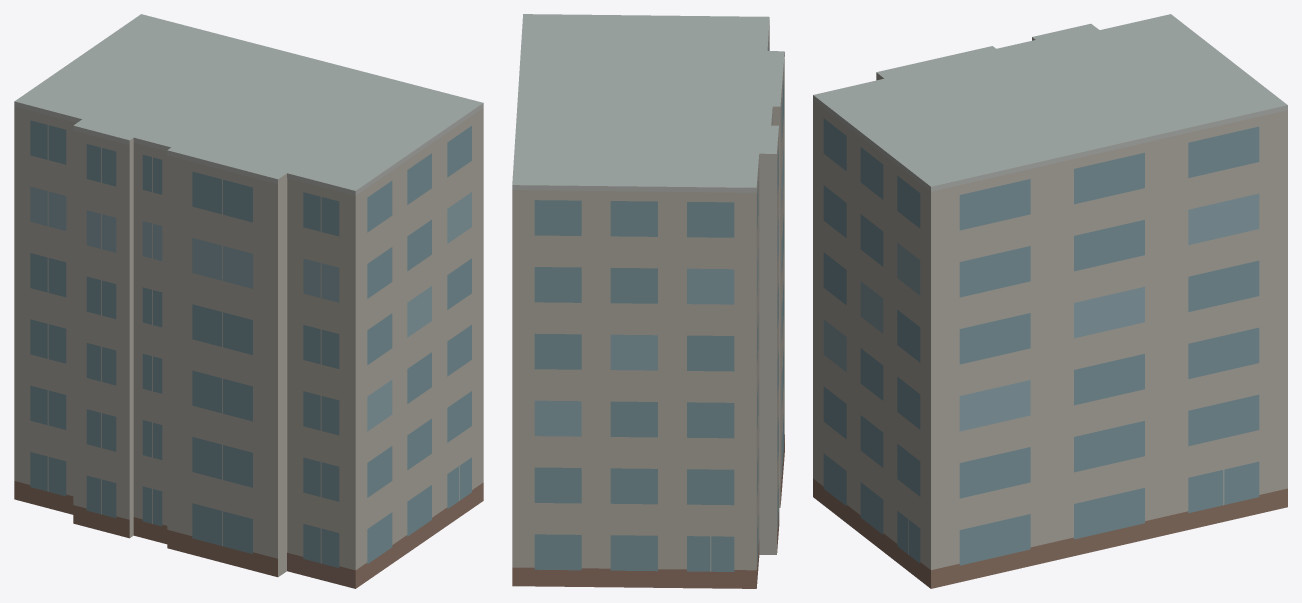
The model's file is survey-upis-32837512.glb.
3 views of the same model, side by side, from view 1: azimuth 30°, elevation 25°; view 2: azimuth 150°, elevation 25°; view 3: azimuth 270°, elevation 25° (orthographic).
Visible parts, largest first — view 1: survey-upis-32837512.tmp; view 2: survey-upis-32837512.tmp; view 3: survey-upis-32837512.tmp.
Boxes of the visible parts, left/top/right/bottom form: survey-upis-32837512.tmp: left=14, top=14, right=483, bottom=588; survey-upis-32837512.tmp: left=512, top=14, right=784, bottom=588; survey-upis-32837512.tmp: left=813, top=14, right=1287, bottom=588.
Bounding box in the file's own units: 18.35 × 19.9 × 21.3.
